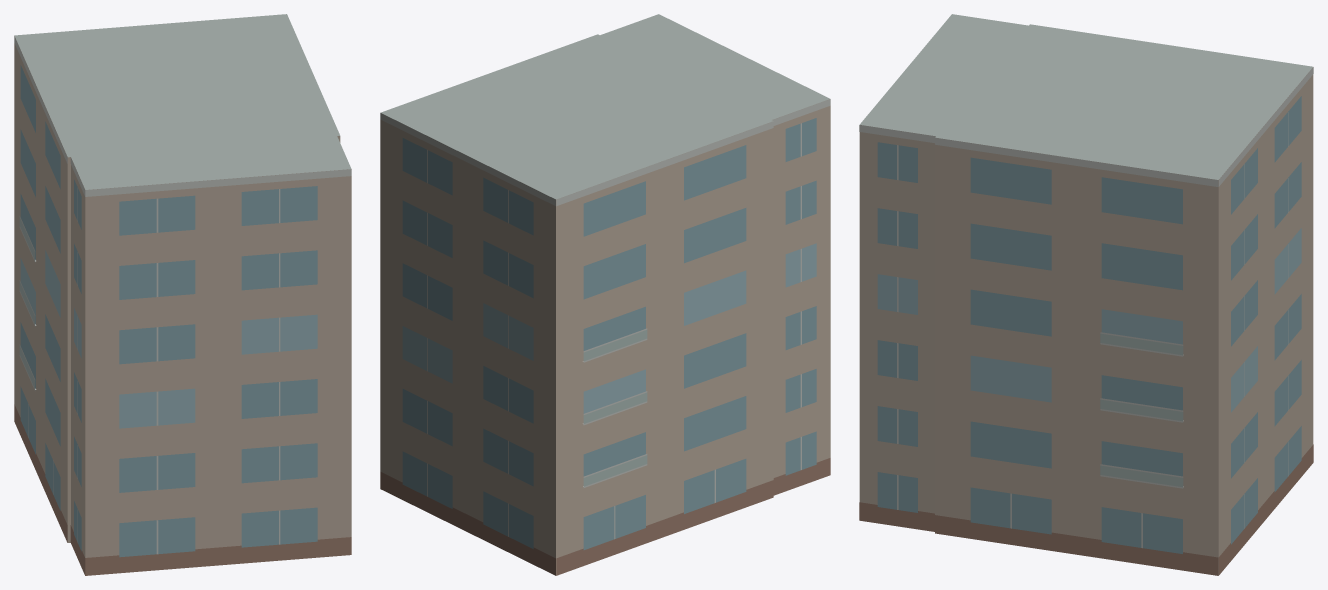
The model's file is survey-upis-32894346.glb.
The picture shows the model from 3 angles, left to right: view 1: azimuth 30°, elevation 25°; view 2: azimuth 150°, elevation 25°; view 3: azimuth 270°, elevation 25°; orthographic projection. The views are drawn at different scales.
Visible parts, largest first — view 1: survey-upis-32894346.tmp; view 2: survey-upis-32894346.tmp; view 3: survey-upis-32894346.tmp.
Boxes of the visible parts, <box> form: survey-upis-32894346.tmp: <box>14,14,351,575</box>; survey-upis-32894346.tmp: <box>380,14,830,575</box>; survey-upis-32894346.tmp: <box>859,14,1313,575</box>.
Bounding box in the file's own units: 12.15 × 13.5 × 14.04.
